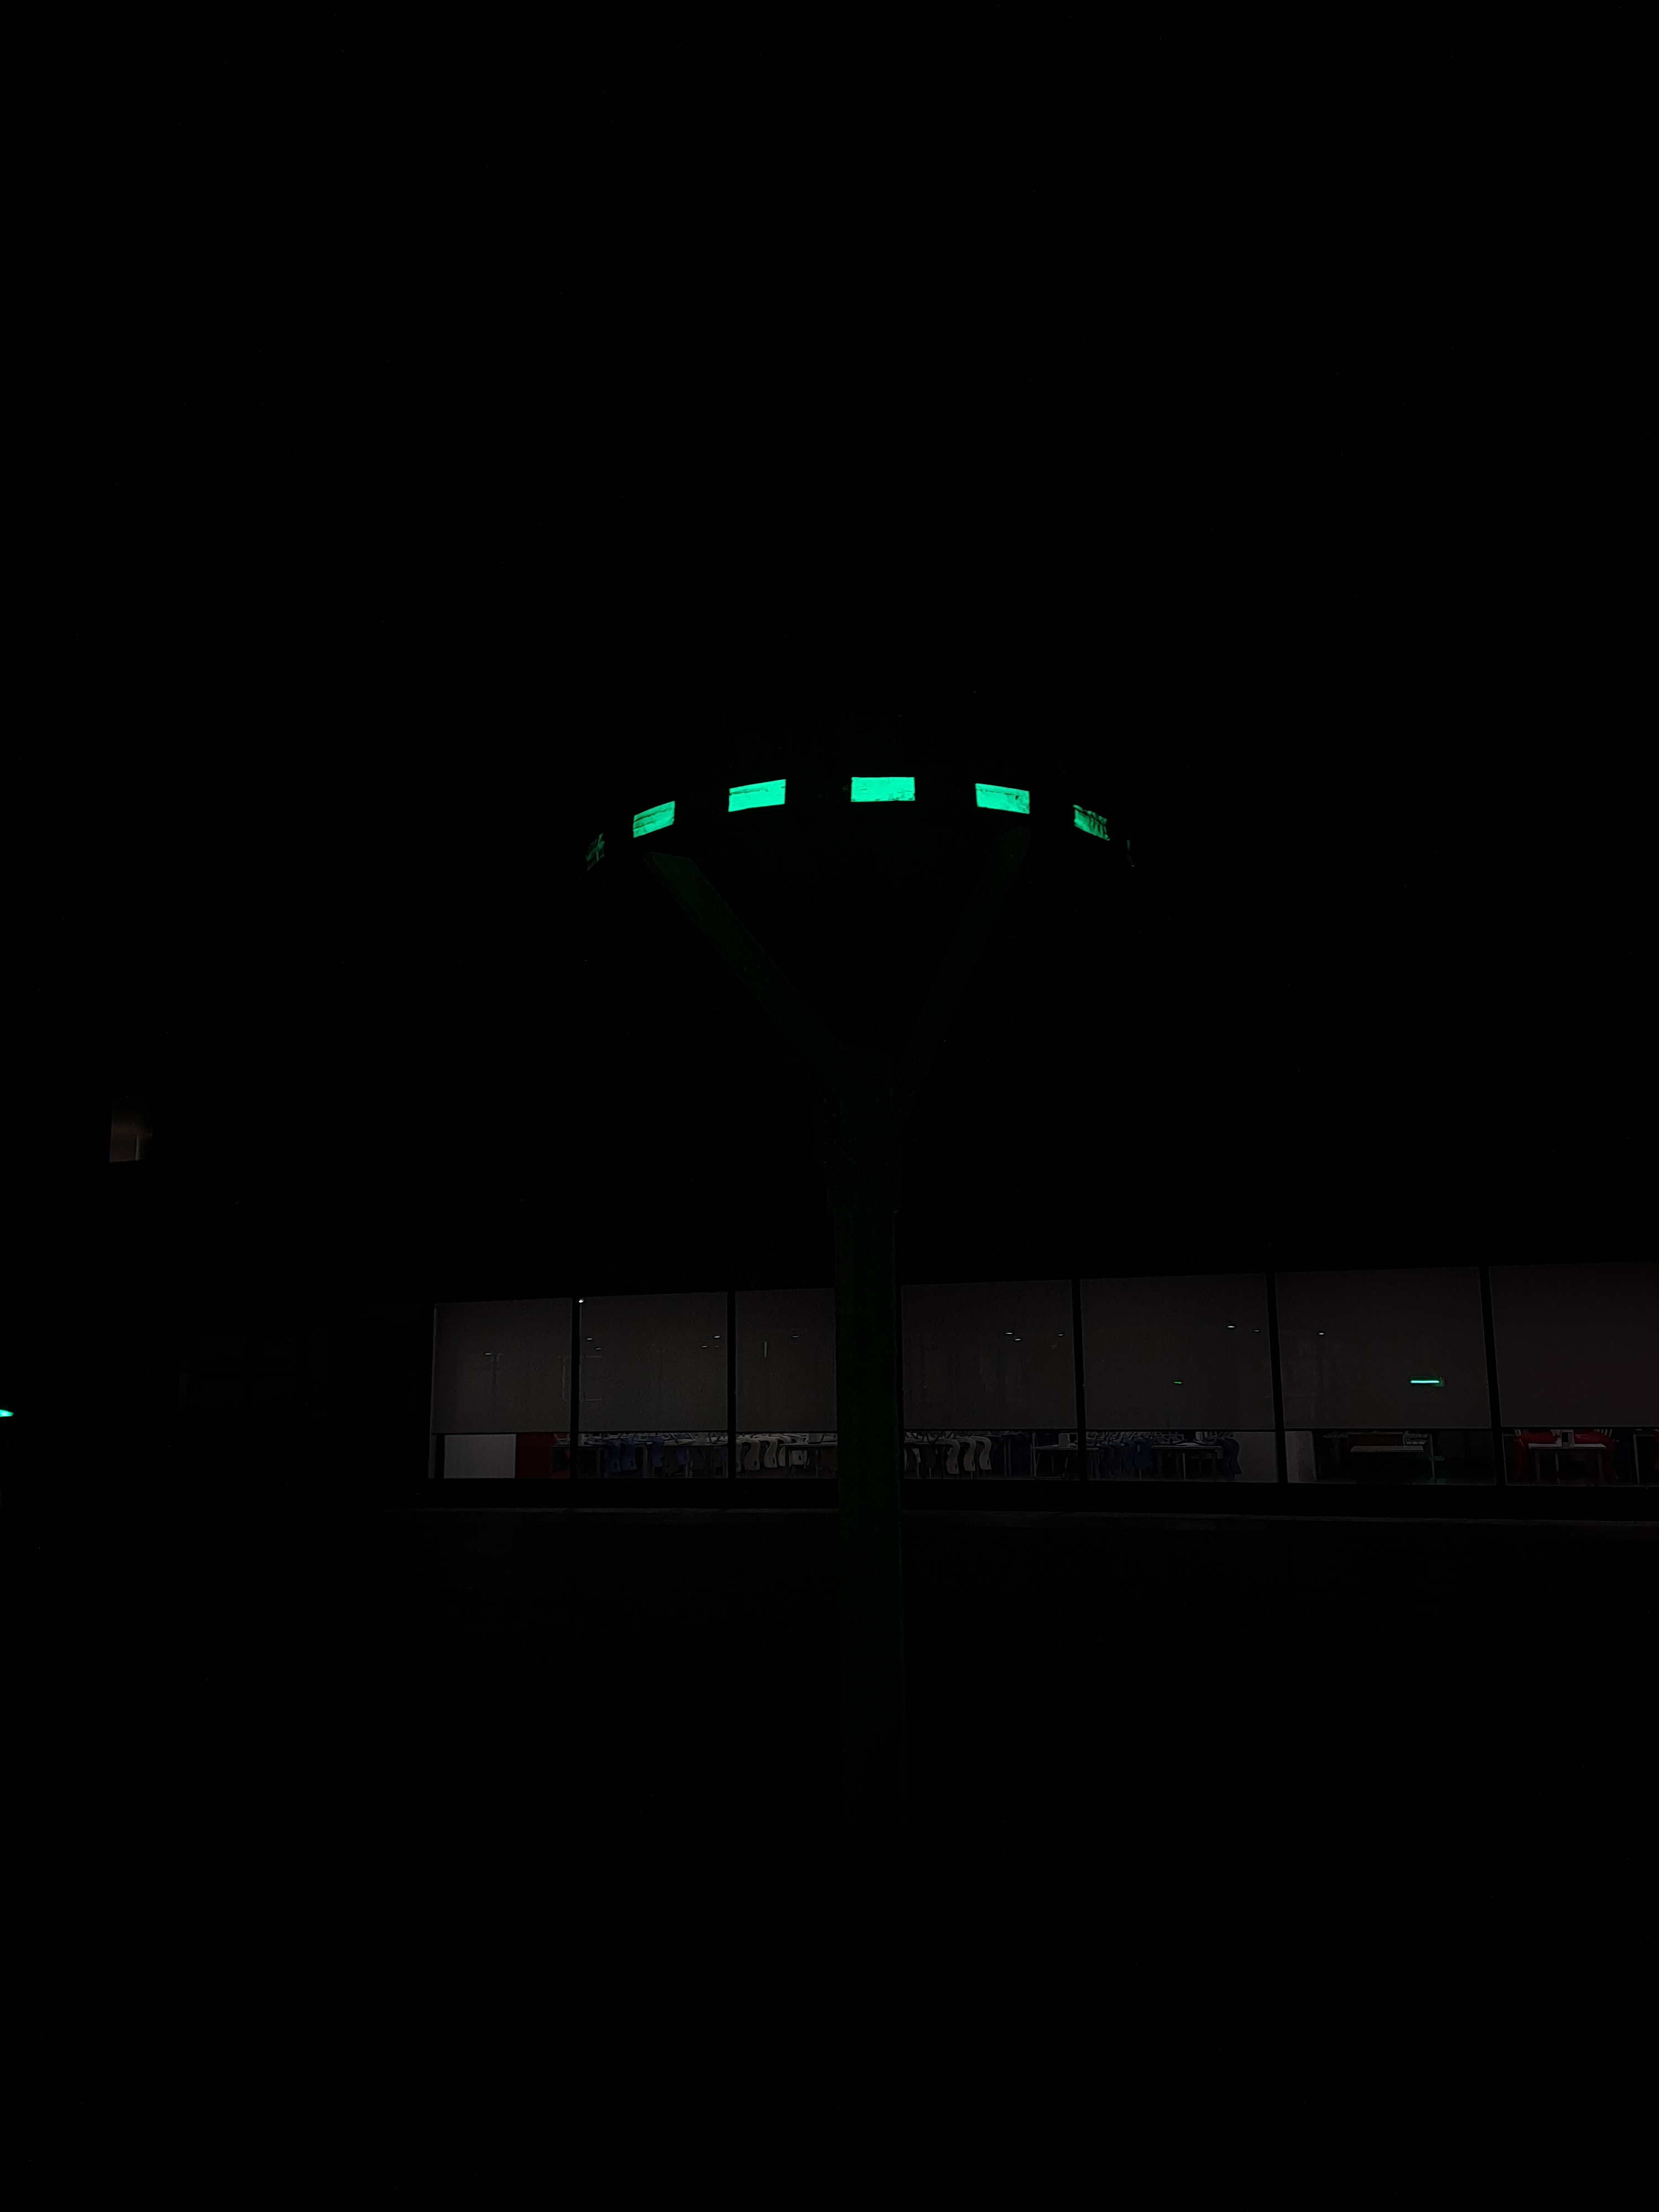hoop: (619, 766, 1114, 850)
